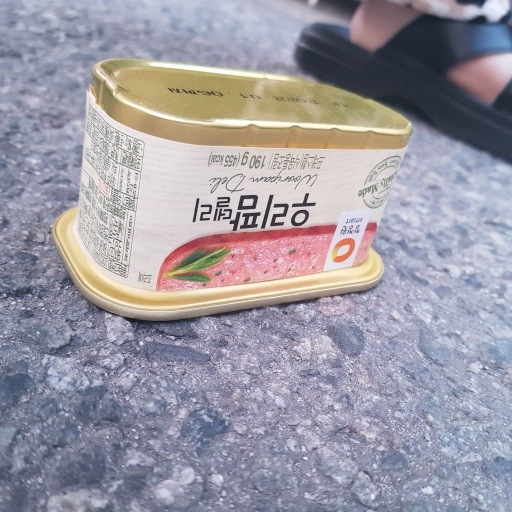Metal_2: (50, 55, 412, 308)
